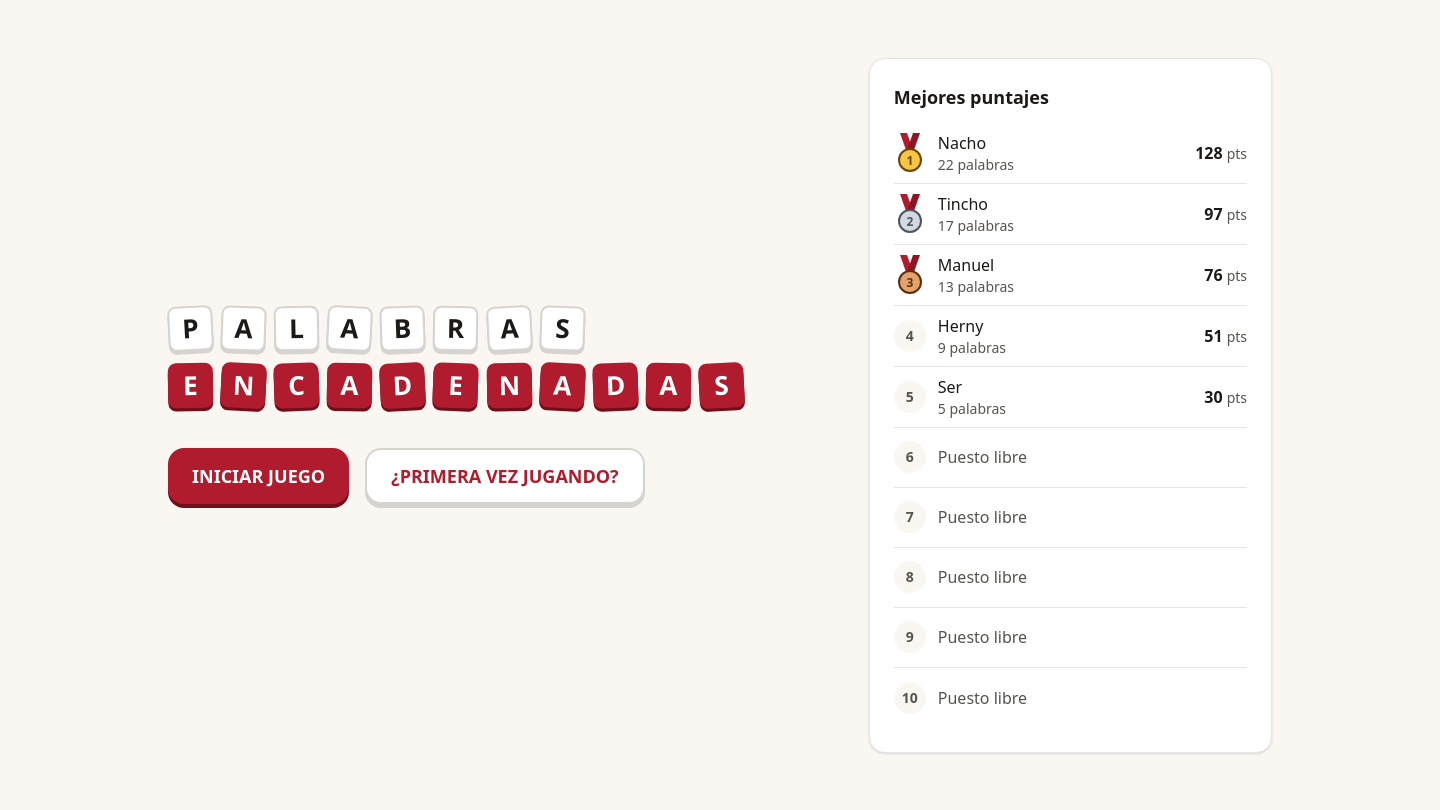
Scenario: App › plays a whole game from the home screen
Later steps or results of the test are not shown.
Click the button "Iniciar juego" at (259, 476), box top-left (168, 448), bottom-right (349, 504)
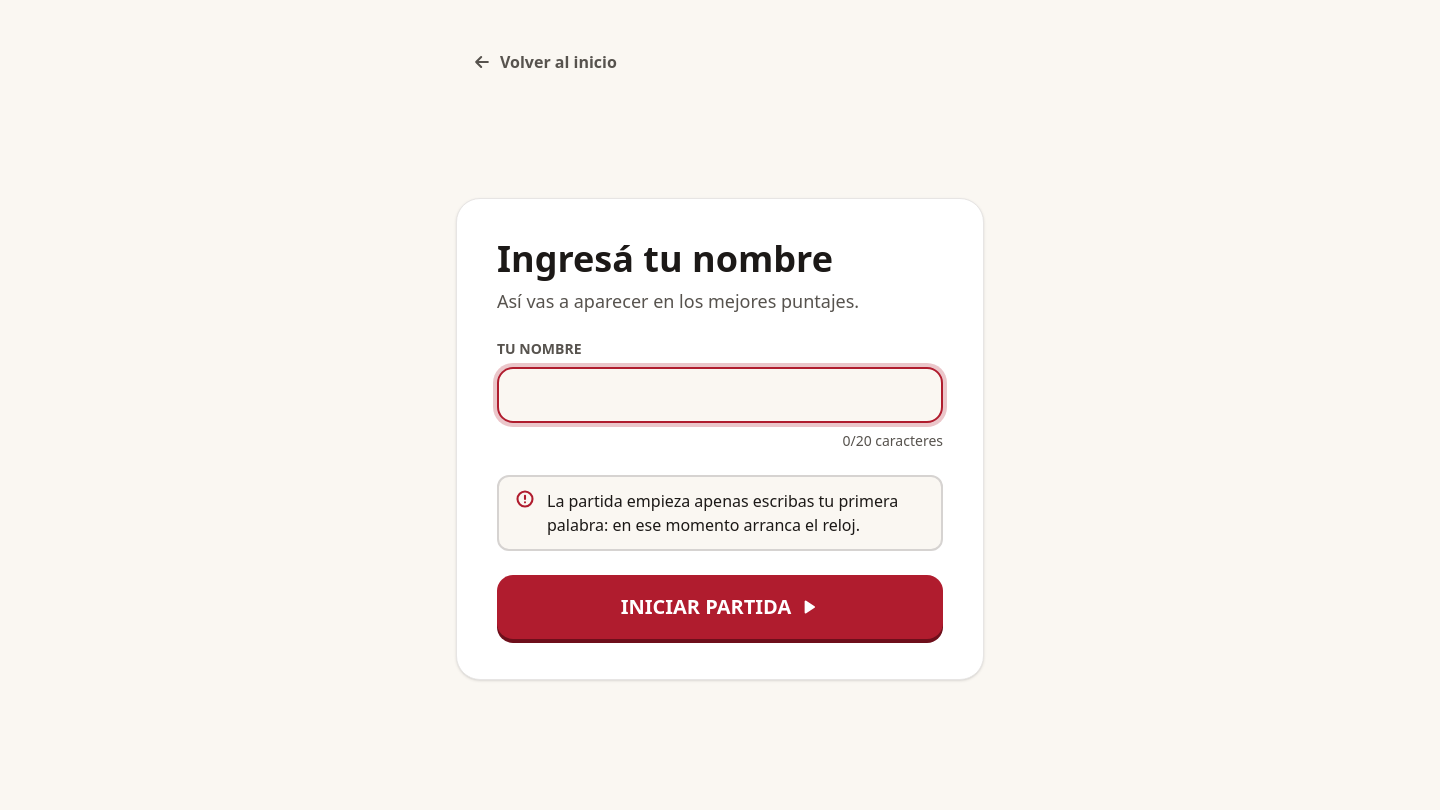
Type "Nacho" into the field labelled "Tu nombre" at (720, 395), box top-left (497, 367), bottom-right (943, 423)
Then press Enter
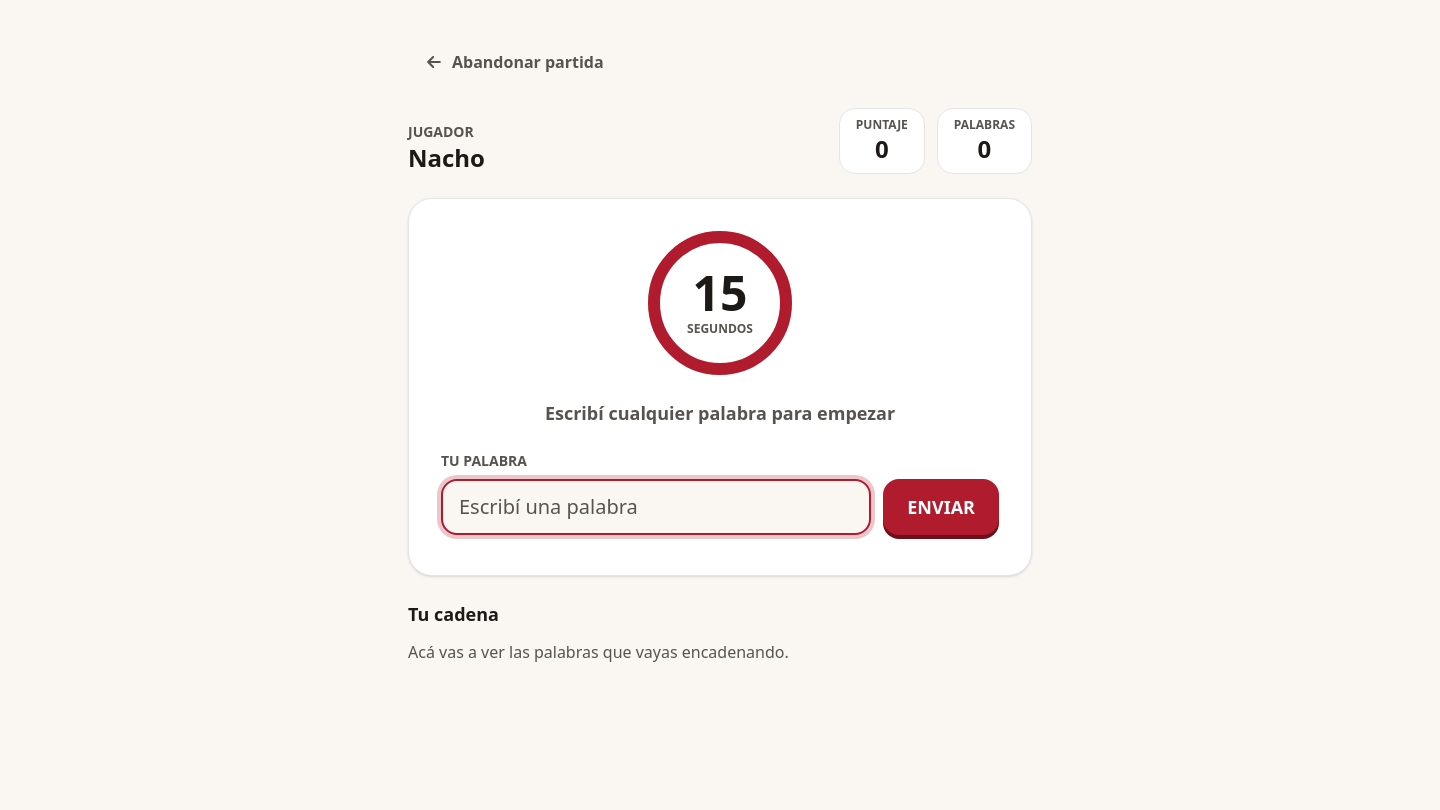
Check: the text "Nacho" is shown, box top-left (408, 142), bottom-right (485, 174)
Type "casa" into the field labelled "Tu palabra" at (656, 507), box top-left (441, 479), bottom-right (871, 535)
Then press Enter
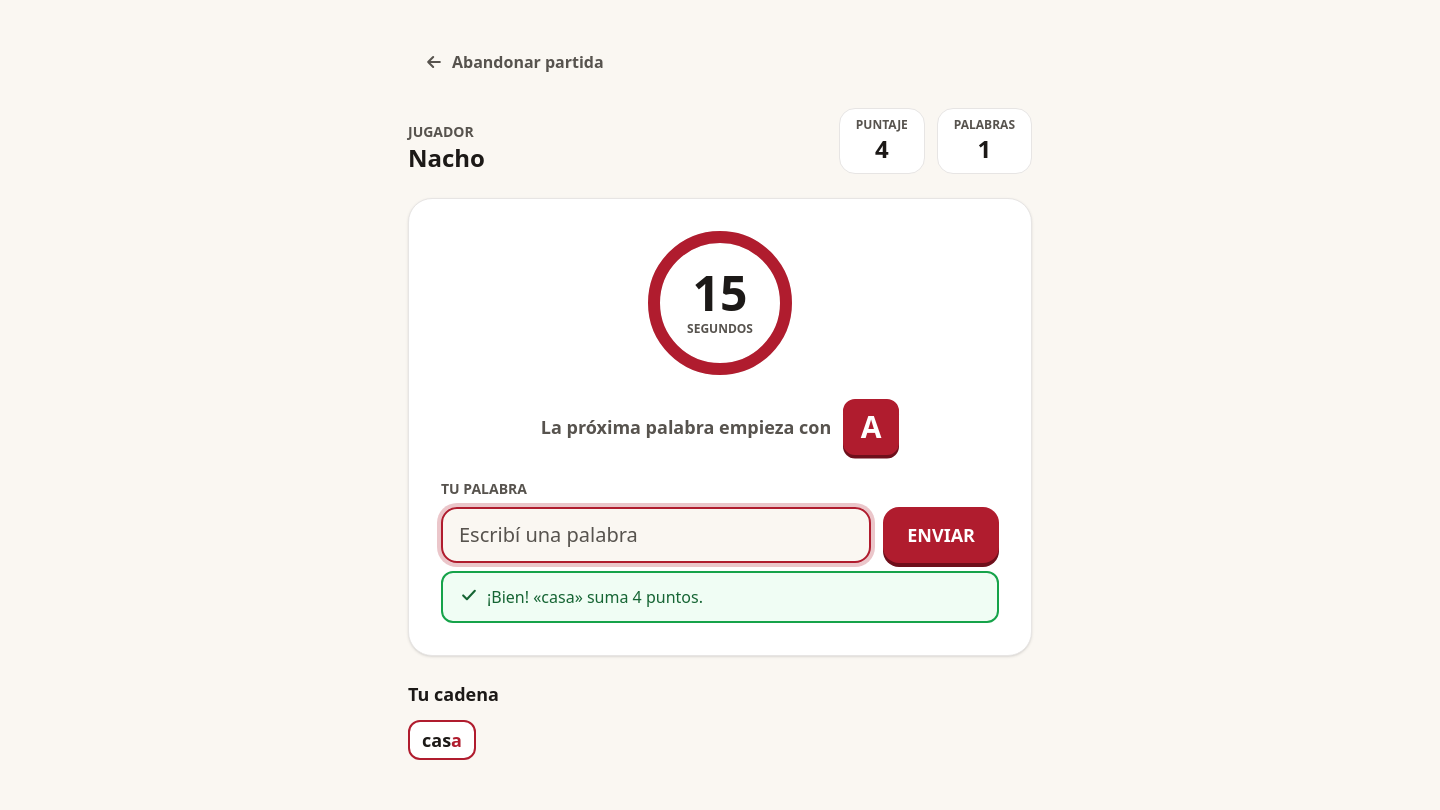
Check: the text "¡Bien! «casa»" is shown, box top-left (487, 585), bottom-right (703, 609)
Type "árbol" into the field labelled "Tu palabra" at (656, 535), box top-left (441, 507), bottom-right (871, 563)
Then press Enter
Wait 15000 ms
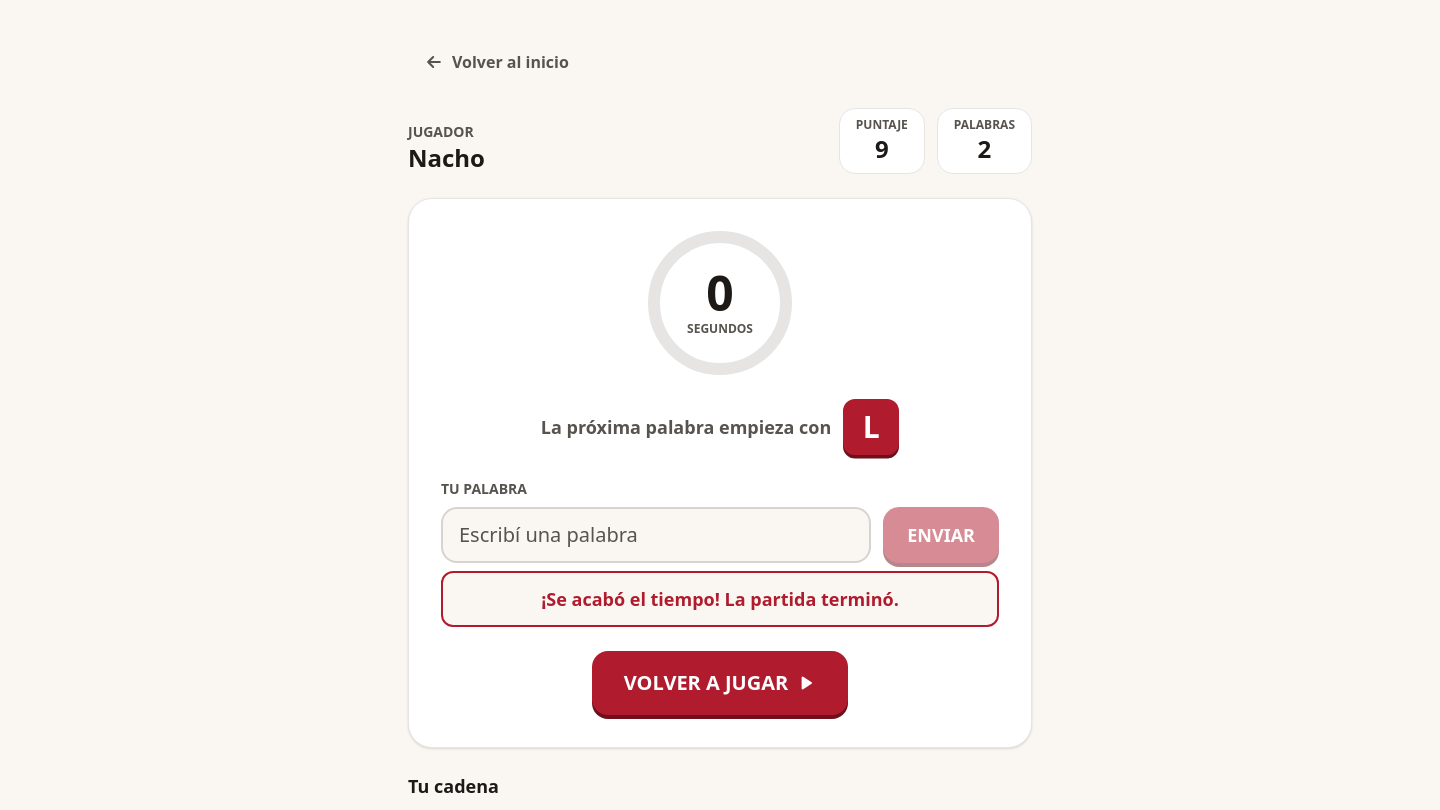
Check: the message reads "¡Se acabó el tiempo! La partida terminó.", box top-left (541, 587), bottom-right (899, 611)
Click the button "Volver al inicio" at (496, 62), box top-left (408, 40), bottom-right (585, 84)
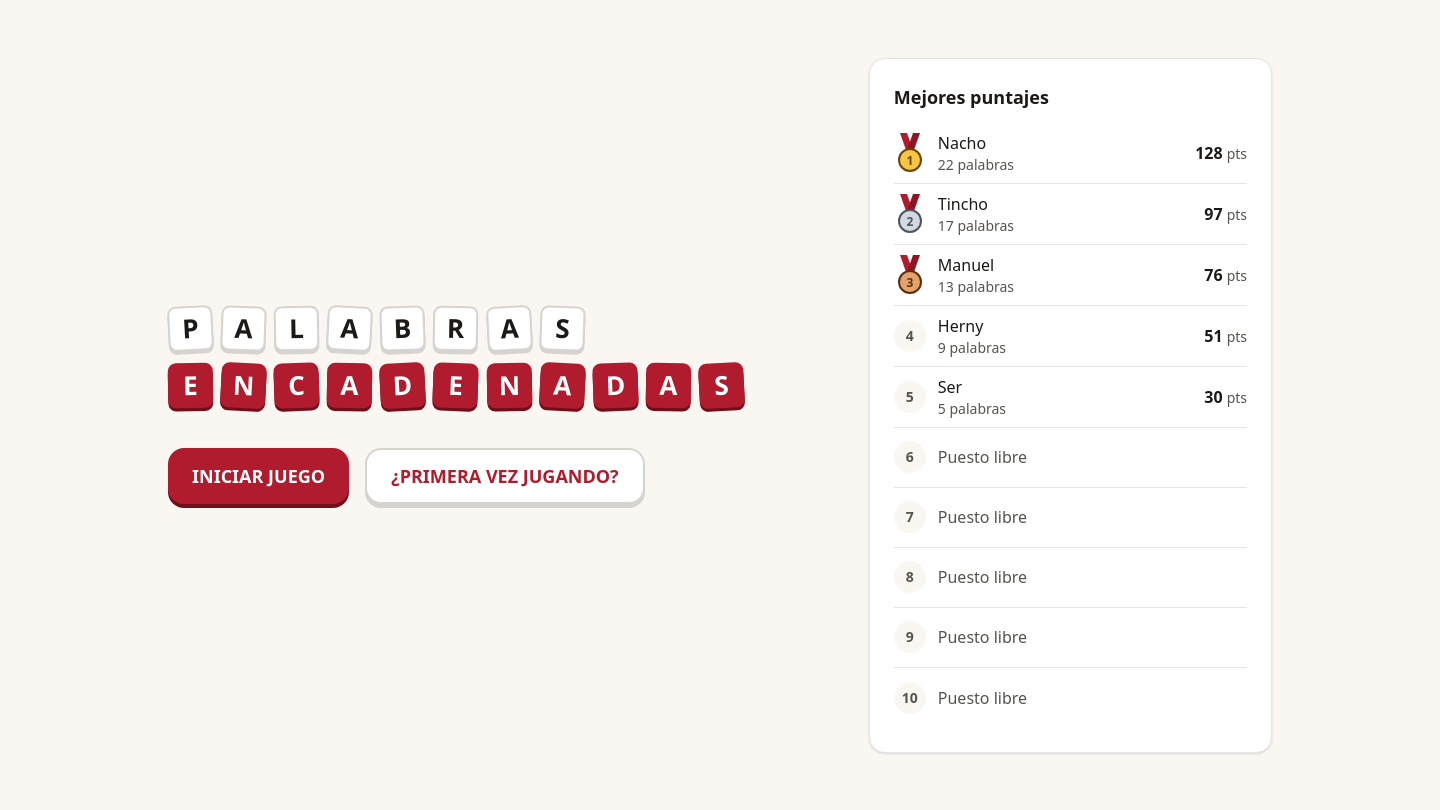
Check: the heading named "Palabras Encadenadas" is shown, box top-left (168, 306), bottom-right (744, 408)
